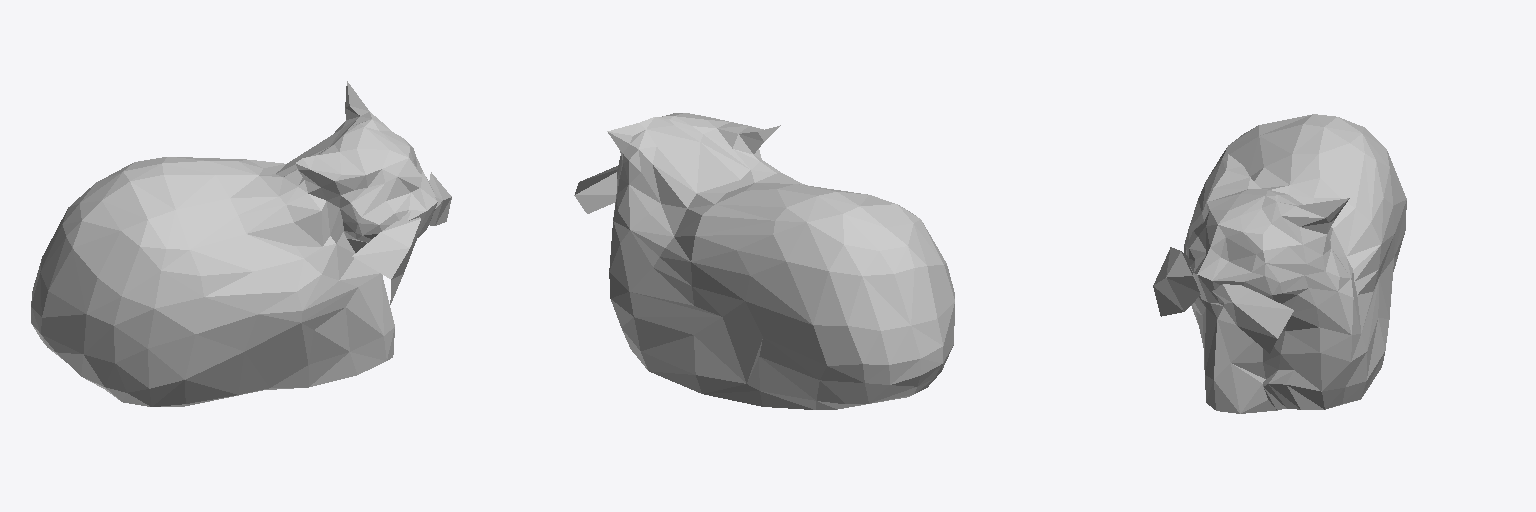
Rendered from exported_cat.obj.
The picture shows the model from 3 angles: view 1: azimuth 30°, elevation 25°; view 2: azimuth 150°, elevation 25°; view 3: azimuth 270°, elevation 25°; orthographic projection.
Visible parts, largest first — view 1: dingus_dingus_0, dingus_whiskers_0; view 2: dingus_dingus_0, dingus_whiskers_0; view 3: dingus_dingus_0, dingus_whiskers_0.
Part boxes in pixels (x1,y1,x2,y2): dingus_dingus_0: (31,81,437,406); dingus_whiskers_0: (352,172,451,304); dingus_dingus_0: (607,113,954,409); dingus_whiskers_0: (574,166,617,213); dingus_dingus_0: (1184,114,1406,413); dingus_whiskers_0: (1153,247,1293,353).
Size of the model in its own units: 33.23 by 19.45 by 18.75.